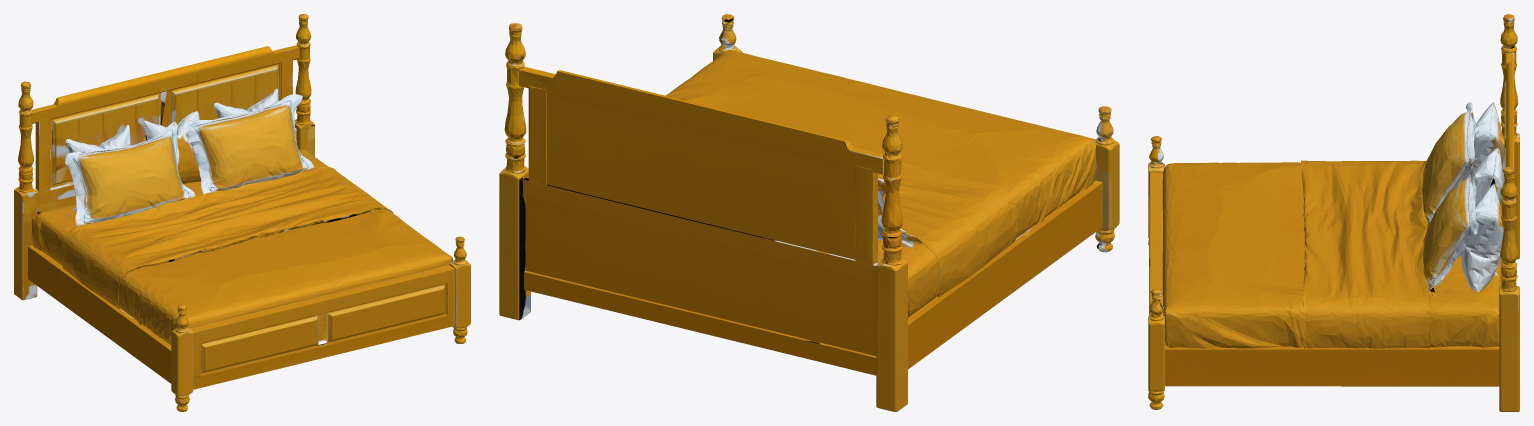
The model's file is edited_mesh.glb.
3 views of the same model, side by side, from view 1: azimuth 30°, elevation 25°; view 2: azimuth 150°, elevation 25°; view 3: azimuth 270°, elevation 25° (orthographic). The views are drawn at different scales.
Parts seen in each view (by area): view 1: solid_001_wire; view 2: solid_001_wire; view 3: solid_001_wire.
Boxes of the visible parts, x1,y1,x2,y2 form: solid_001_wire: (14, 14, 470, 411); solid_001_wire: (499, 14, 1119, 411); solid_001_wire: (1148, 14, 1519, 411).
Bounding box in the file's own units: 1.68 × 1.16 × 1.63.
1 material, 1 textured.
